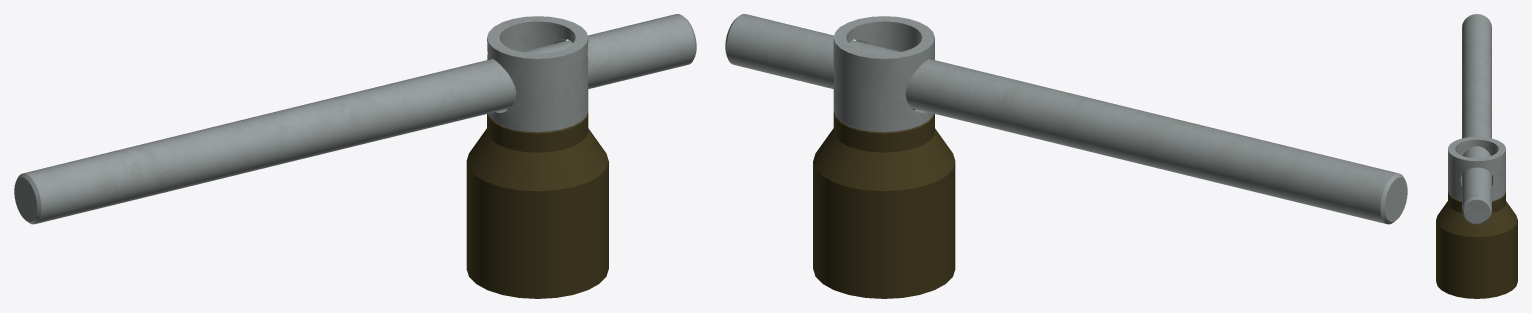
Rendered from Socket_Wrench.fbx.
The picture shows the model from 3 angles, left to right: view 1: azimuth 30°, elevation 25°; view 2: azimuth 150°, elevation 25°; view 3: azimuth 270°, elevation 25°; orthographic projection. The views are drawn at different scales.
Visible parts, largest first — view 1: socket_wrench_handle, socket_wrench_main; view 2: socket_wrench_handle, socket_wrench_main; view 3: socket_wrench_main, socket_wrench_handle.
Part boxes in pixels (x1,y1,x2,y2): socket_wrench_handle: [14, 14, 696, 224]; socket_wrench_main: [466, 16, 608, 298]; socket_wrench_handle: [725, 14, 1407, 224]; socket_wrench_main: [813, 16, 955, 298]; socket_wrench_main: [1436, 136, 1517, 298]; socket_wrench_handle: [1462, 14, 1491, 224].
Size of the model in its own units: 0.4269 by 0.1431 by 0.0798.
